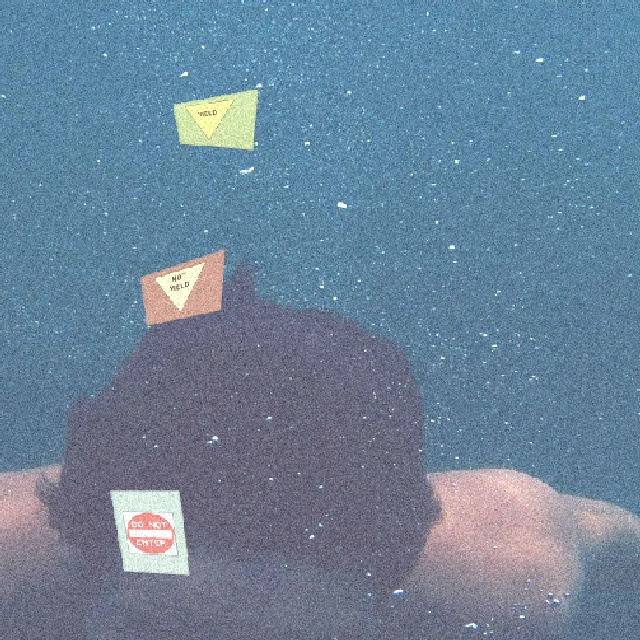DO_NOT_ENTER: (121, 503, 178, 563)
NOT_YIELD: (152, 261, 209, 317)
YIELD: (183, 98, 238, 145)
